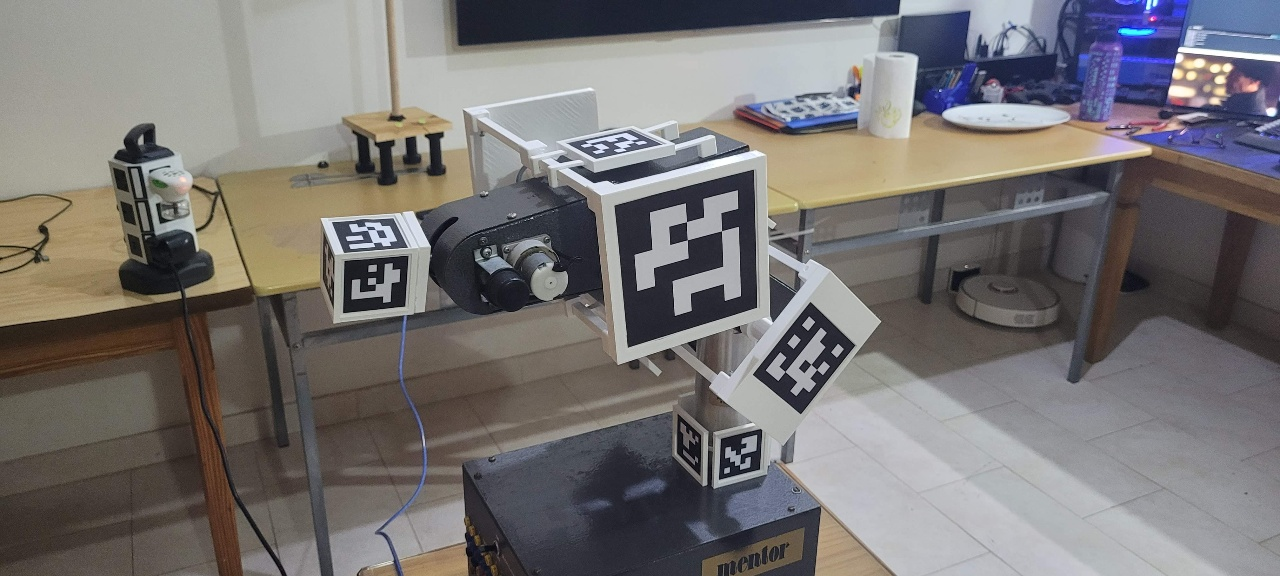Robot: (321, 87, 884, 493)
